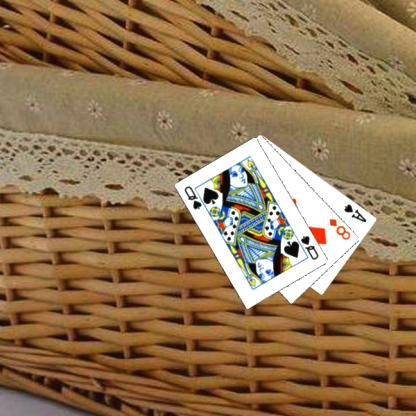8D: (326, 216, 353, 241)
AS: (341, 201, 368, 223)
QS: (298, 232, 320, 262), (182, 183, 204, 211)
